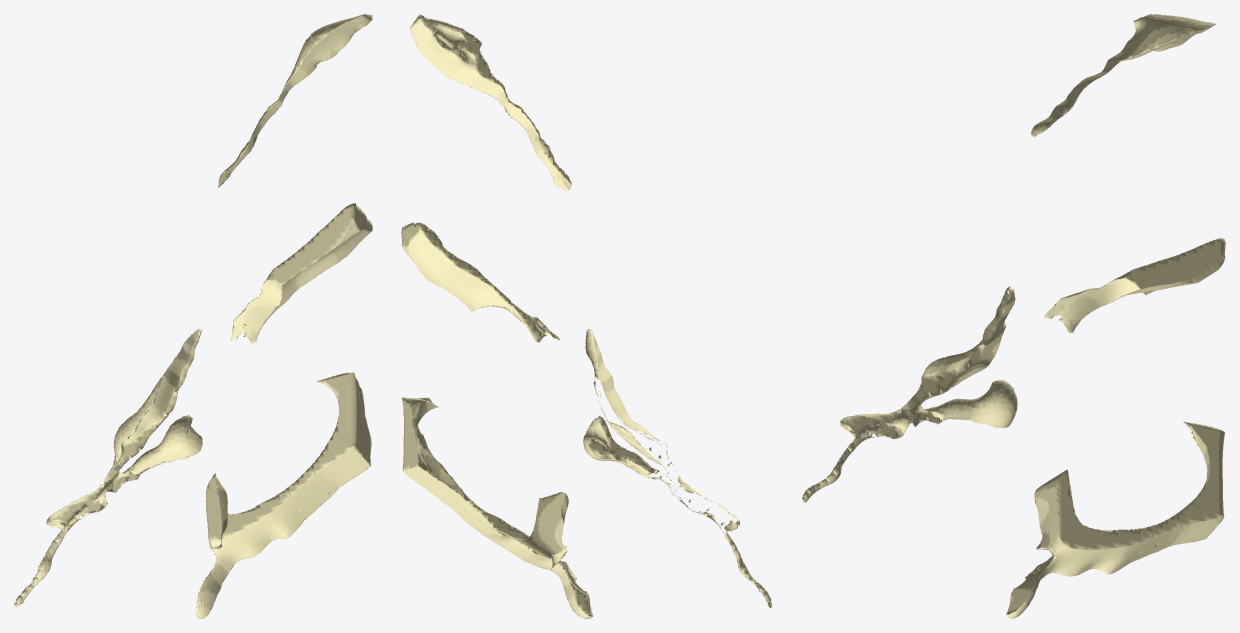
3 renders of one model, left to right at view 1: azimuth 30°, elevation 25°; view 2: azimuth 150°, elevation 25°; view 3: azimuth 330°, elevation 25°, orthographic. The views are drawn at different scales.
Parts seen in each view (by area): view 1: Switch_Switch_osgPicked_gmeGeoEntityGeode_Geometry_Geometry_ (×3), Switch_Switch_osgPicked_gmeGeoEntityGeode_Geometry_0; view 2: Switch_Switch_osgPicked_gmeGeoEntityGeode_Geometry_Geometry_ (×3), Switch_Switch_osgPicked_gmeGeoEntityGeode_Geometry_0; view 3: Switch_Switch_osgPicked_gmeGeoEntityGeode_Geometry_Geometry_ (×3), Switch_Switch_osgPicked_gmeGeoEntityGeode_Geometry_0.
Part boxes in pixels (x1=…): Switch_Switch_osgPicked_gmeGeoEntityGeode_Geometry_Geometry_ (×3): x1=196, y1=14, x2=372, y2=618; Switch_Switch_osgPicked_gmeGeoEntityGeode_Geometry_0: x1=14, y1=328, x2=202, y2=606; Switch_Switch_osgPicked_gmeGeoEntityGeode_Geometry_Geometry_ (×3): x1=401, y1=14, x2=593, y2=618; Switch_Switch_osgPicked_gmeGeoEntityGeode_Geometry_0: x1=583, y1=329, x2=771, y2=607; Switch_Switch_osgPicked_gmeGeoEntityGeode_Geometry_Geometry_ (×3): x1=1006, y1=14, x2=1225, y2=618; Switch_Switch_osgPicked_gmeGeoEntityGeode_Geometry_0: x1=802, y1=286, x2=1017, y2=502.
Size of what is drawn, in the model's own units: 35953 by 54322 by 3644.
